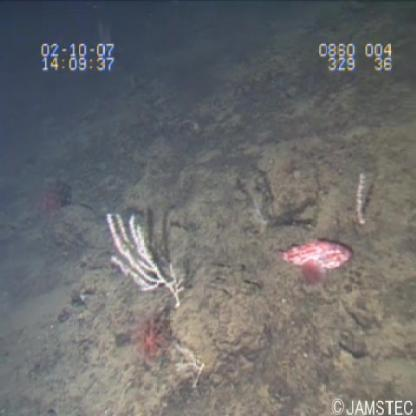Bio: (100, 206, 186, 316), (274, 232, 362, 290)
